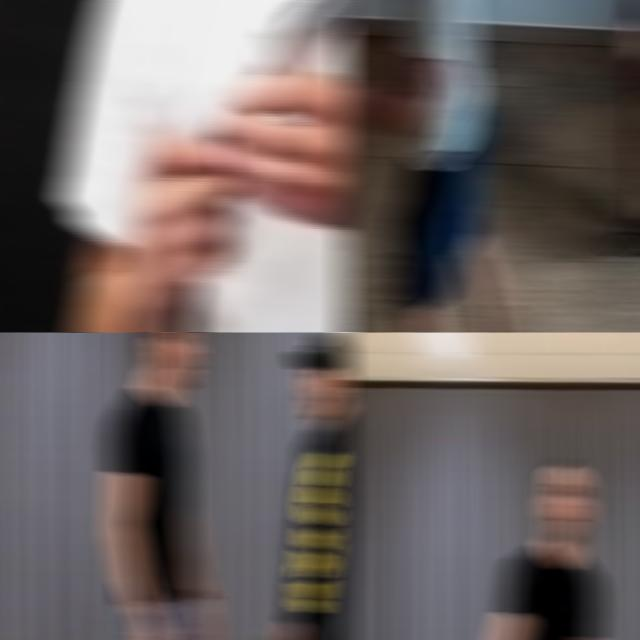Knife: (253, 0, 351, 76)
Knife_Handle: (136, 0, 351, 306), (137, 620, 202, 640)
